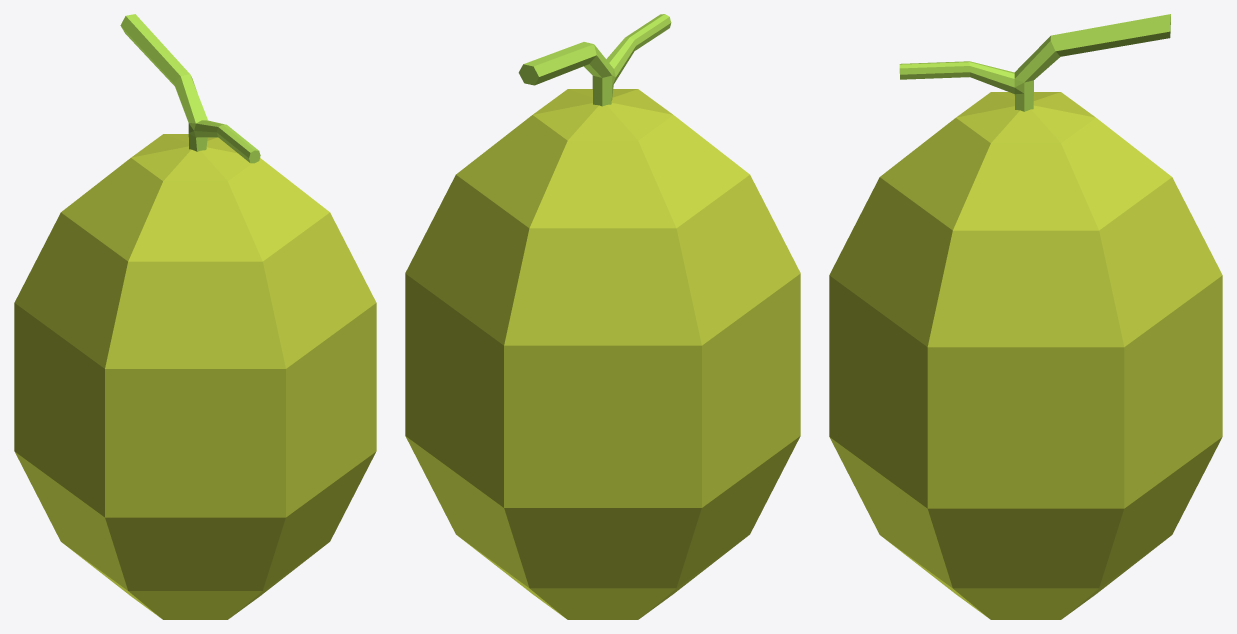
File: HoneydewMelon.fbx
3 renders of one model, left to right at view 1: azimuth 30°, elevation 25°; view 2: azimuth 150°, elevation 25°; view 3: azimuth 270°, elevation 25°, orthographic. The views are drawn at different scales.
Visible parts, largest first — view 1: HoneydewMelon_Piece, HoneydewMelon_All; view 2: HoneydewMelon_Piece, HoneydewMelon_All; view 3: HoneydewMelon_All, HoneydewMelon_Piece.
Boxes of the visible parts, x1=… form: HoneydewMelon_Piece: x1=14, y1=134, x2=285, y2=619; HoneydewMelon_All: x1=62, y1=14, x2=376, y2=619; HoneydewMelon_Piece: x1=504, y1=89, x2=800, y2=619; HoneydewMelon_All: x1=405, y1=14, x2=747, y2=619; HoneydewMelon_All: x1=829, y1=14, x2=1222, y2=619; HoneydewMelon_Piece: x1=956, y1=98, x2=1095, y2=117.
Bounding box in the file's own units: 14.07 × 26.99 × 16.24.
